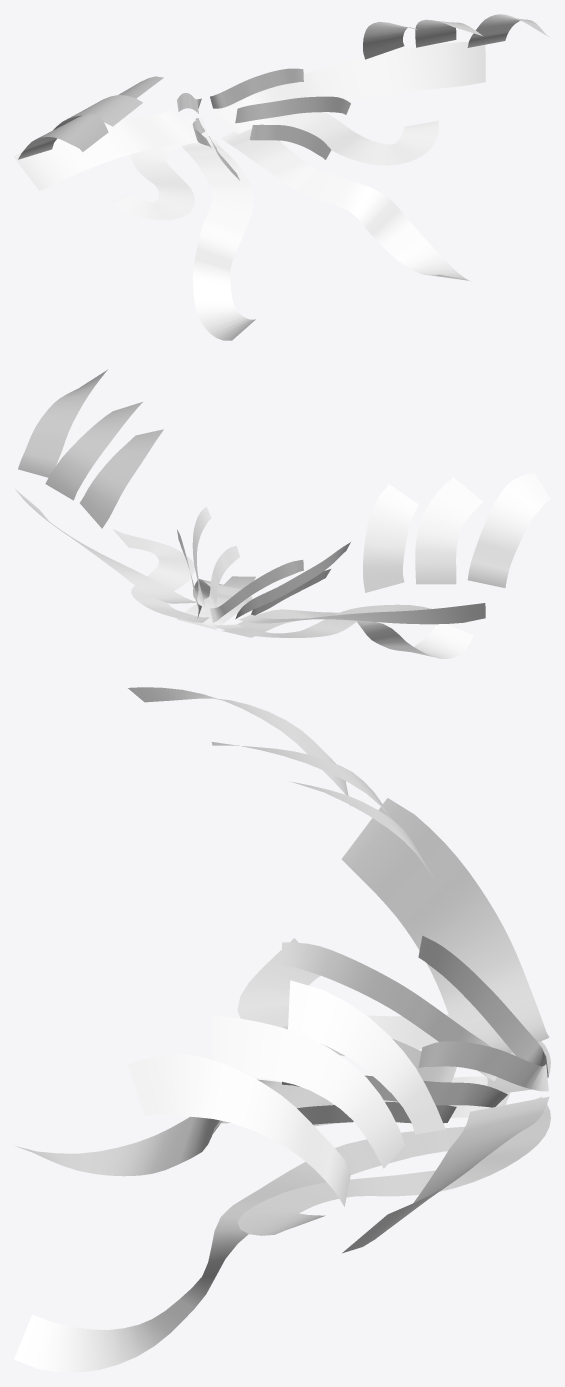
The picture shows the model from 3 angles, top to bottom: view 1: azimuth 30°, elevation 25°; view 2: azimuth 150°, elevation 25°; view 3: azimuth 270°, elevation 25°; orthographic projection. The views are drawn at different scales.
Visible parts, largest first — view 1: Marker_geo; view 2: Marker_geo; view 3: Marker_geo.
Part boxes in pixels (left/top/right/bottom): Marker_geo: left=14, top=14, right=549, bottom=340; Marker_geo: left=15, top=369, right=550, bottom=658; Marker_geo: left=14, top=687, right=550, bottom=1372.
Bounding box in the file's own units: 3.69 × 1.56 × 1.94.
1 material, 1 textured.
